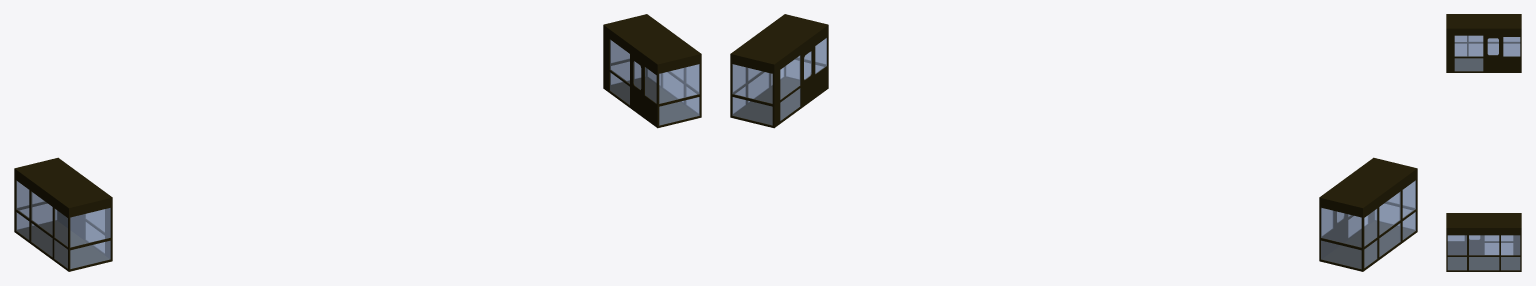
Rendered from STS_House.FBX.
3 renders of one model, left to right at view 1: azimuth 30°, elevation 25°; view 2: azimuth 150°, elevation 25°; view 3: azimuth 270°, elevation 25°, orthographic. The views are drawn at different scales.
Visible parts, largest first — view 1: STS_House; view 2: STS_House; view 3: STS_House.
Boxes of the visible parts, <box> form: STS_House: <box>14,14,701,271</box>; STS_House: <box>730,14,1417,271</box>; STS_House: <box>1446,14,1521,271</box>.
Bounding box in the file's own units: 2210 × 213 × 330.
